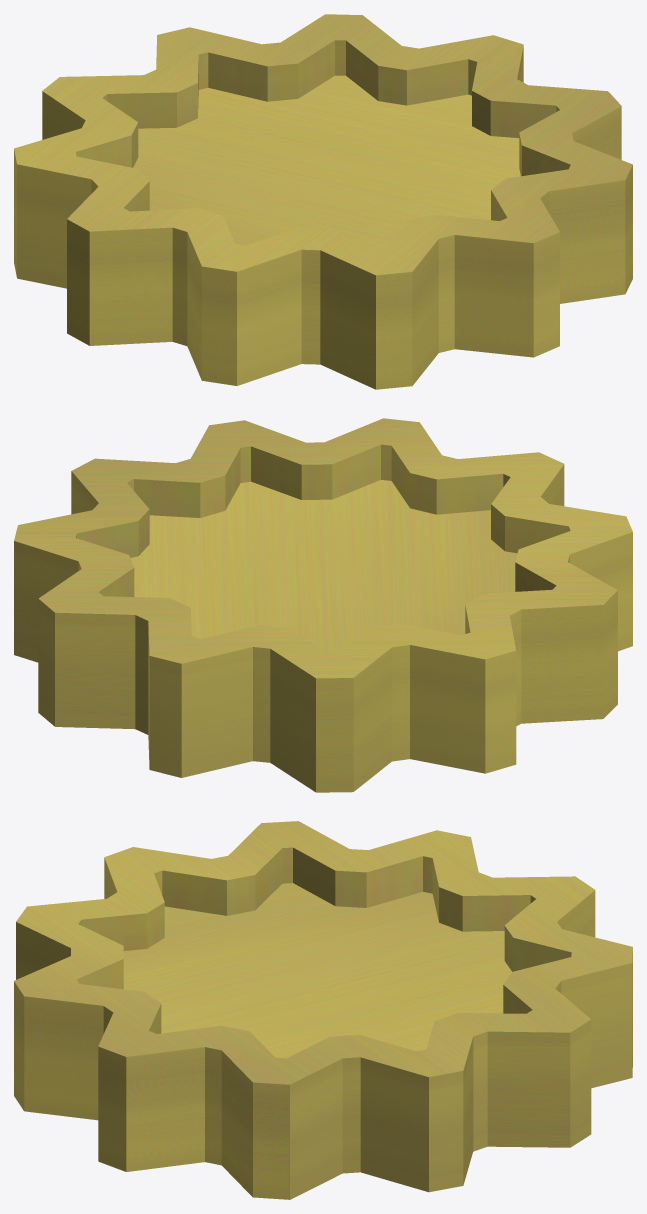
File: CogFacet011.fbx
The picture shows the model from 3 angles, top to bottom: view 1: azimuth 30°, elevation 25°; view 2: azimuth 150°, elevation 25°; view 3: azimuth 270°, elevation 25°; orthographic projection.
Parts seen in each view (by area): view 1: CogFacet011; view 2: CogFacet011; view 3: CogFacet011.
Boxes of the visible parts, x1,y1,x2,y2 form: CogFacet011: [14, 14, 632, 389]; CogFacet011: [14, 418, 632, 792]; CogFacet011: [14, 821, 632, 1199].
Size of the model in its own units: 107 by 21.75 by 106.
